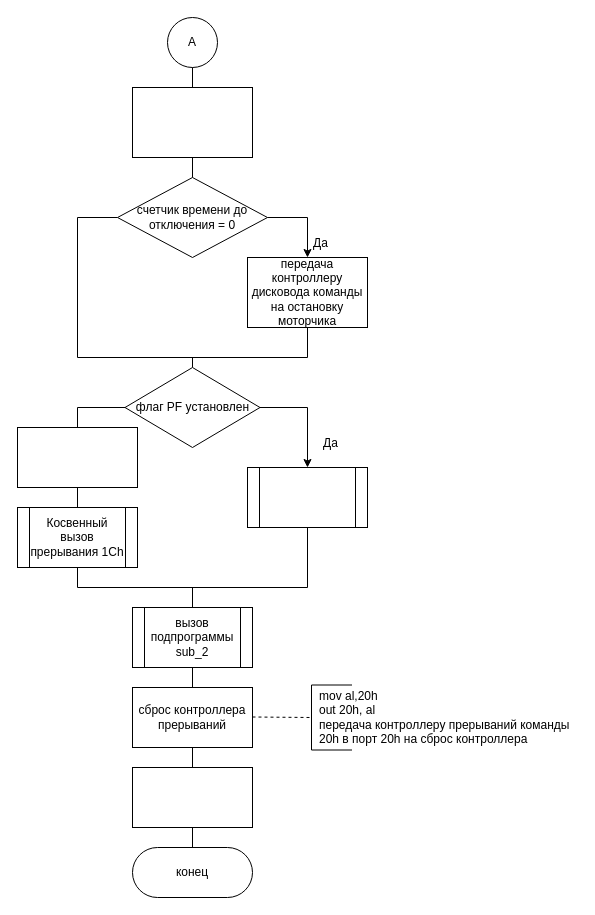
This 595x915 diagram has some shape labels left out. The shapes that lost their labels are listed below. From the top down, each one's box as (x1, y1, x2, y2) in pixels, then its label:
(132, 86, 252, 158): декремент счетчика времени до отключения моторчика дисковода
(16, 426, 138, 488): занесение значения регистра ax в стек
(246, 466, 368, 528): Вызов прерывания 1Ch
(132, 766, 252, 828): восстановление регистров dx, ax, ds, es
